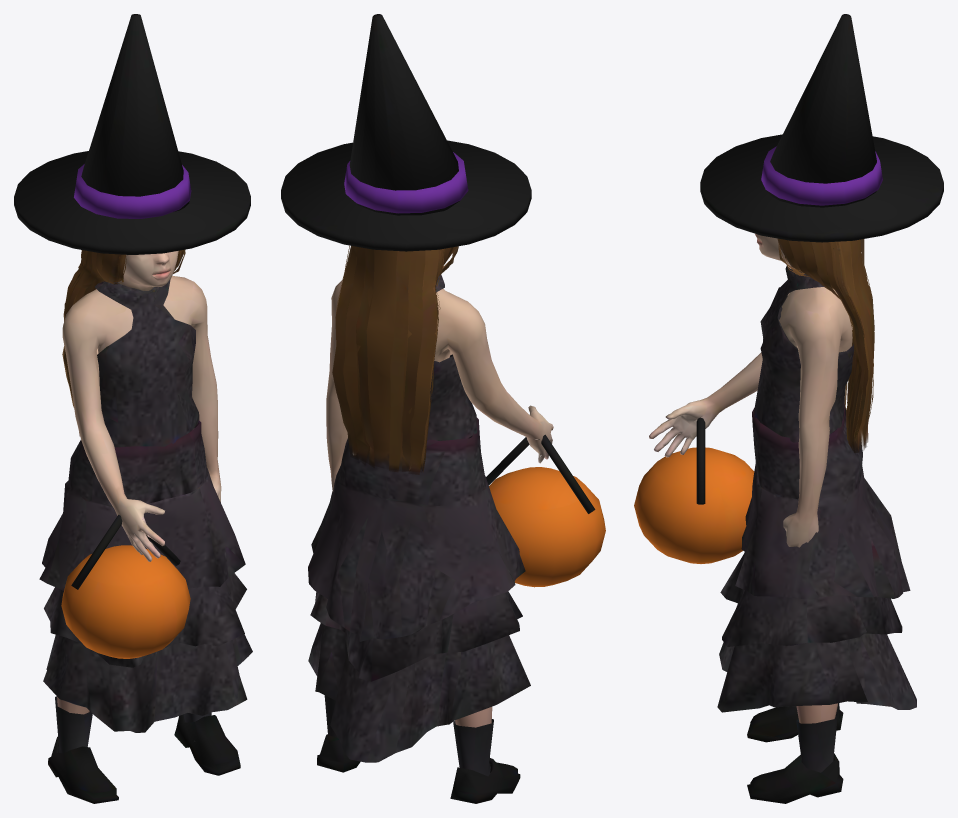
Rendered from mq-kid_witch.glb.
3 views of the same model, side by side, from view 1: azimuth 30°, elevation 25°; view 2: azimuth 150°, elevation 25°; view 3: azimuth 270°, elevation 25° (orthographic). The views are drawn at different scales.
Parts seen in each view (by area): view 1: MQ_kid_witch; view 2: MQ_kid_witch; view 3: MQ_kid_witch.
Boxes of the visible parts, left/top/right/bottom form: MQ_kid_witch: left=14, top=14, right=252, bottom=803; MQ_kid_witch: left=281, top=14, right=605, bottom=803; MQ_kid_witch: left=634, top=14, right=943, bottom=803.
Bounding box in the file's own units: 0.4374 × 1.37 × 0.5086.
1 material, 1 textured.
